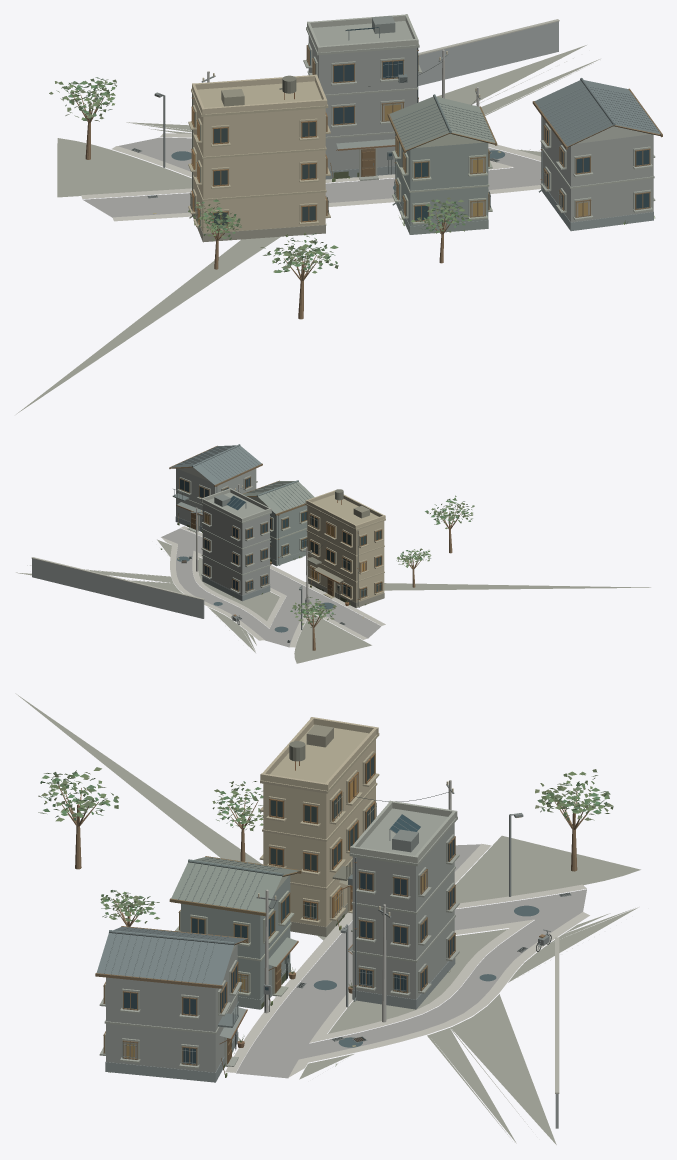
The model's file is street_6_2.glb.
3 views of the same model, one above another, from view 1: azimuth 30°, elevation 25°; view 2: azimuth 150°, elevation 25°; view 3: azimuth 270°, elevation 25° (orthographic). The views are drawn at different scales.
Visible parts, largest first — view 1: plaster.022, concrete.015, graybrick.022, trim.022, ground.038, wood.022, road.054, roof_tile.017, roof_metal.022, leaf.017, glass.022, metal.022 (+2 smaller); view 2: graybrick.022, ground.038, concrete.015, plaster.022, road.054, trim.022, wood.022, paving.030, glass.022, roof_tile.017, roof_metal.022, metal.022 (+1 smaller); view 3: ground.038, concrete.015, road.054, trim.022, plaster.022, wood.022, paving.030, graybrick.022, roof_tile.017, roof_metal.022, leaf.017, glass.022 (+2 smaller).
Part boxes in pixels (box(x1,y1,x2,y2)): plaster.022: box(192, 14, 650, 233); concrete.015: box(207, 36, 653, 222); graybrick.022: box(193, 21, 653, 242); trim.022: box(188, 19, 655, 230); ground.038: box(16, 45, 600, 414); wood.022: box(71, 45, 662, 319); road.054: box(83, 137, 541, 217); roof_tile.017: box(433, 78, 660, 146); roof_metal.022: box(221, 15, 495, 149); leaf.017: box(49, 77, 471, 273); glass.022: box(193, 27, 649, 227); metal.022: box(131, 27, 561, 224); graybrick.022: box(32, 505, 384, 618); ground.038: box(16, 539, 650, 663); concrete.015: box(176, 468, 308, 615); plaster.022: box(177, 467, 385, 602); road.054: box(161, 528, 381, 647); trim.022: box(31, 475, 385, 600); wood.022: box(169, 445, 461, 650); paving.030: box(161, 526, 385, 647); glass.022: box(180, 478, 381, 597); roof_tile.017: box(170, 444, 298, 496); roof_metal.022: box(177, 481, 369, 582); metal.022: box(172, 481, 382, 642); ground.038: box(15, 693, 640, 1144); concrete.015: box(106, 780, 454, 1072); road.054: box(236, 844, 586, 1078); trim.022: box(99, 724, 559, 1093); plaster.022: box(231, 717, 457, 953); wood.022: box(58, 753, 593, 1074); paving.030: box(225, 843, 589, 1077); graybrick.022: box(105, 875, 558, 1128); roof_tile.017: box(96, 859, 283, 985); roof_metal.022: box(171, 724, 418, 1038); leaf.017: box(38, 767, 613, 923); glass.022: box(124, 755, 454, 1064).
Size of the model in its own units: 63.82 by 11.22 by 38.61.
